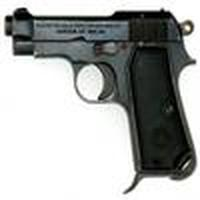gun: (3, 10, 199, 182)
